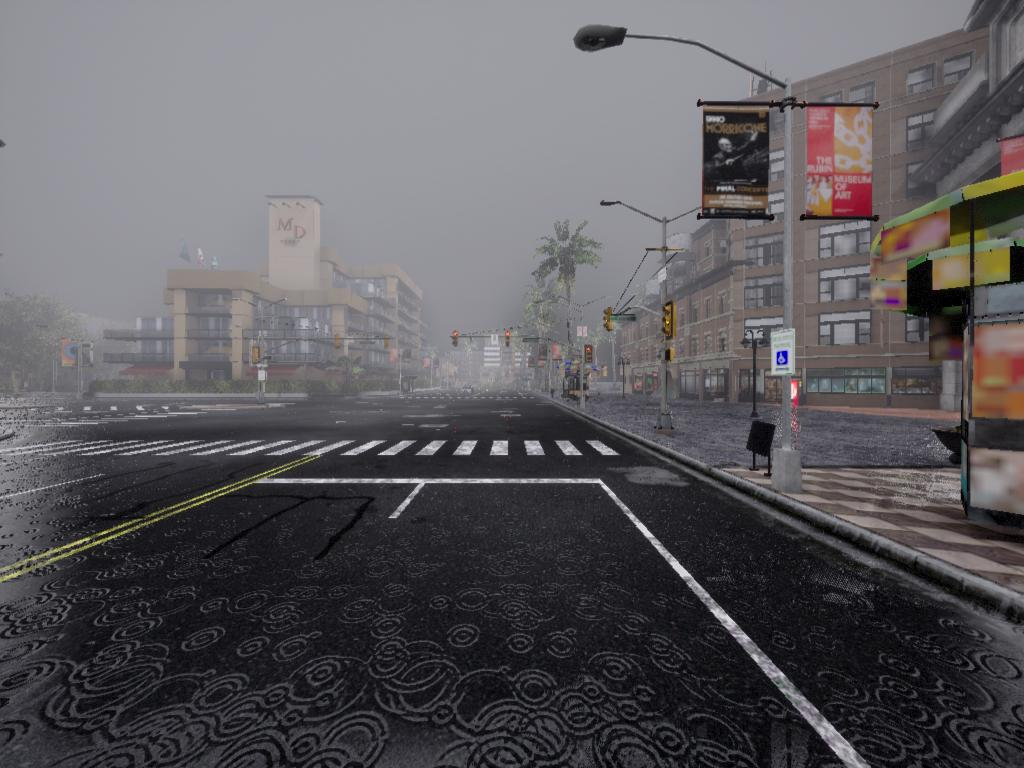traffic_light: (663, 304, 678, 342), (604, 310, 615, 332), (663, 348, 676, 364), (586, 348, 595, 363), (504, 331, 511, 348), (334, 335, 341, 352), (453, 332, 461, 346), (385, 336, 390, 351)
